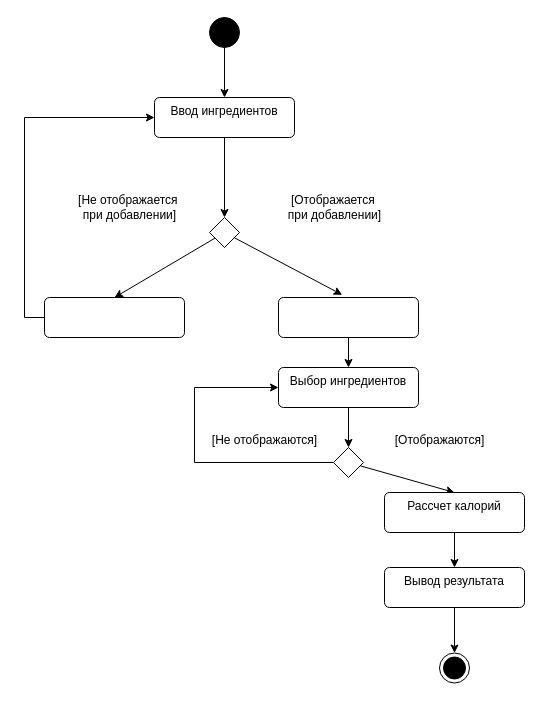
Image size: 542x701. Some labels were removed from this diagram. Here are the shapes that lost their labels. From the top down, the centre of each, then its label:
At pixel 114 317: "Некорректный ввод данных".
At pixel 348 317: "Ввод названия блюда".
